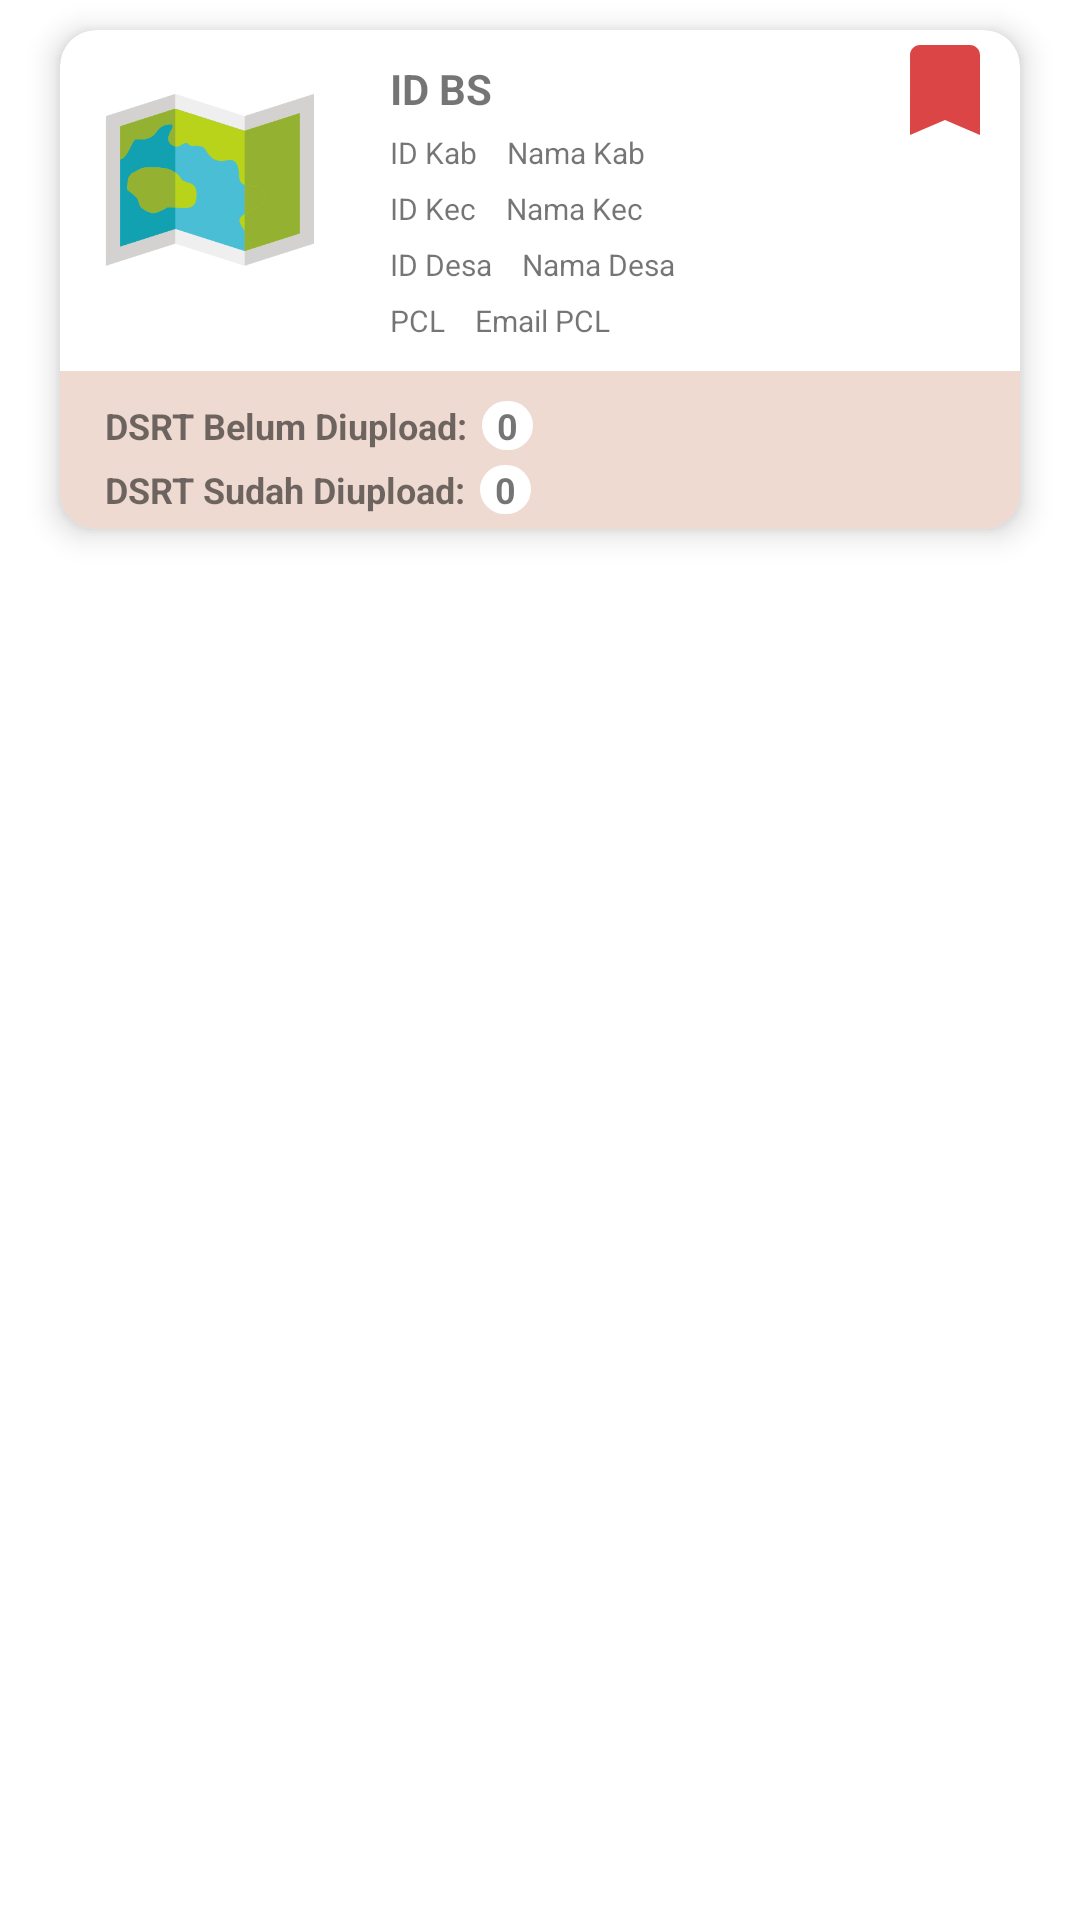

Icons on this 1080px×1920px Android screen, each with its box as (left=x1, top=y1, right=x2, bottom=y2):
map: (left=106, top=94, right=314, bottom=266)
tag notyet: (left=910, top=30, right=999, bottom=135)
